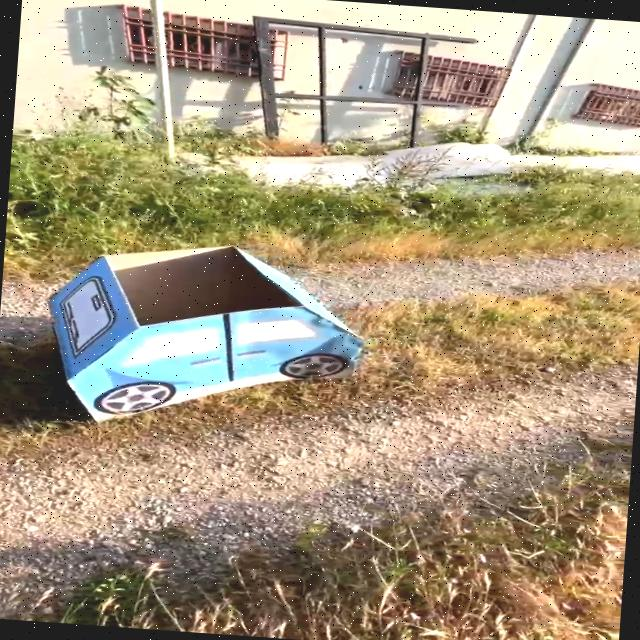blue_car: (31, 220, 387, 451)
